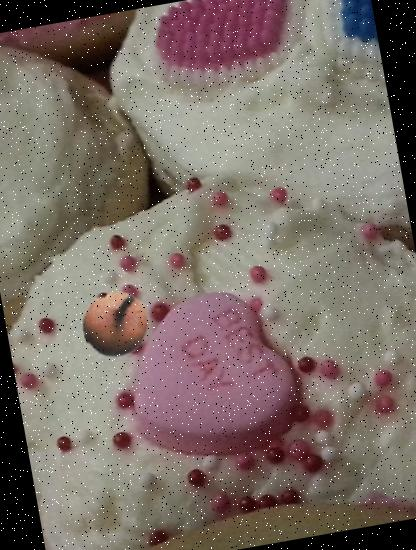Granadilla: (76, 285, 154, 364)
